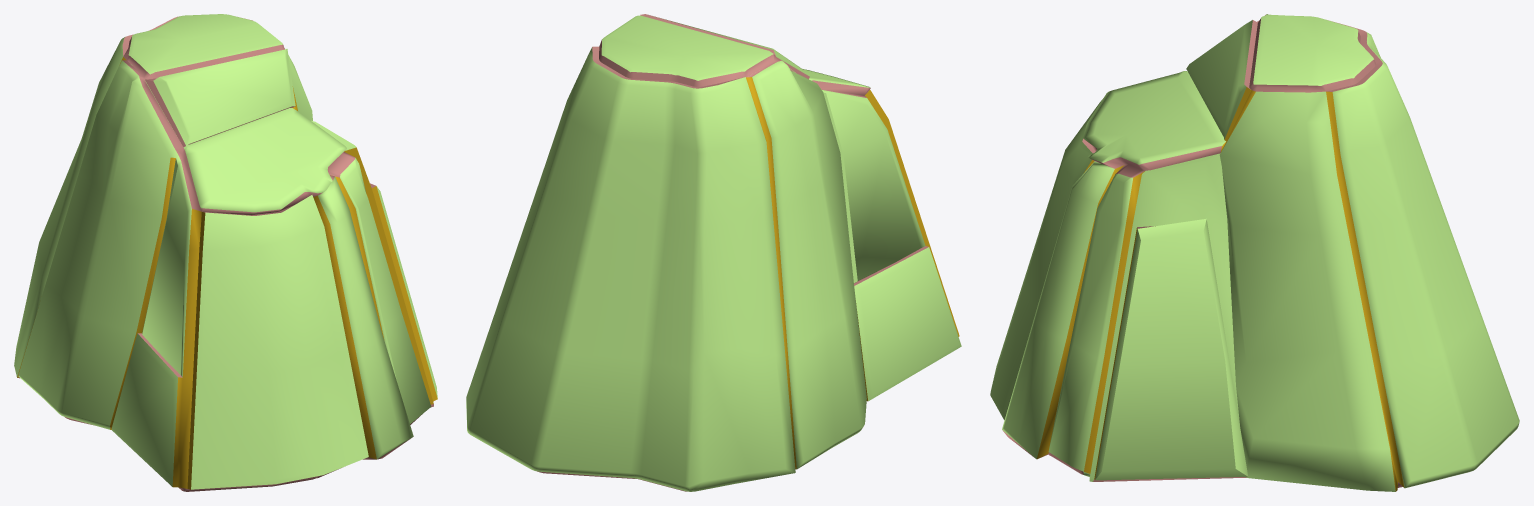
File: rocafixed (1).fbx
3 views of the same model, side by side, from view 1: azimuth 30°, elevation 25°; view 2: azimuth 150°, elevation 25°; view 3: azimuth 270°, elevation 25° (orthographic). The views are drawn at different scales.
Parts seen in each view (by area): view 1: Shape1; view 2: Shape1; view 3: Shape1.
Boxes of the visible parts, x1=… form: Shape1: x1=14, y1=14, x2=437, y2=491; Shape1: x1=466, y1=14, x2=961, y2=491; Shape1: x1=990, y1=14, x2=1519, y2=491.
Bounding box in the file's own units: 0.7411 × 0.7662 × 1.01.
